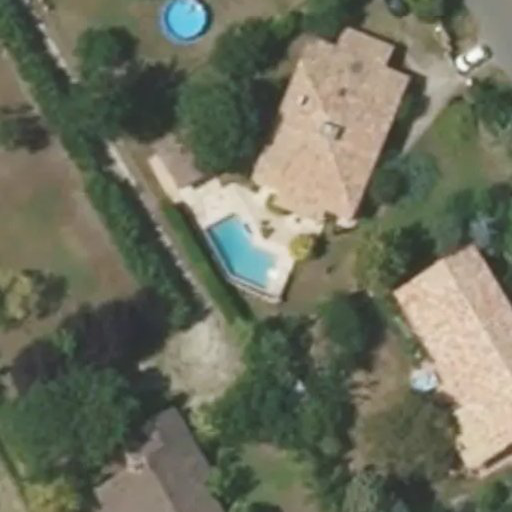pool: (196, 235, 302, 251)
